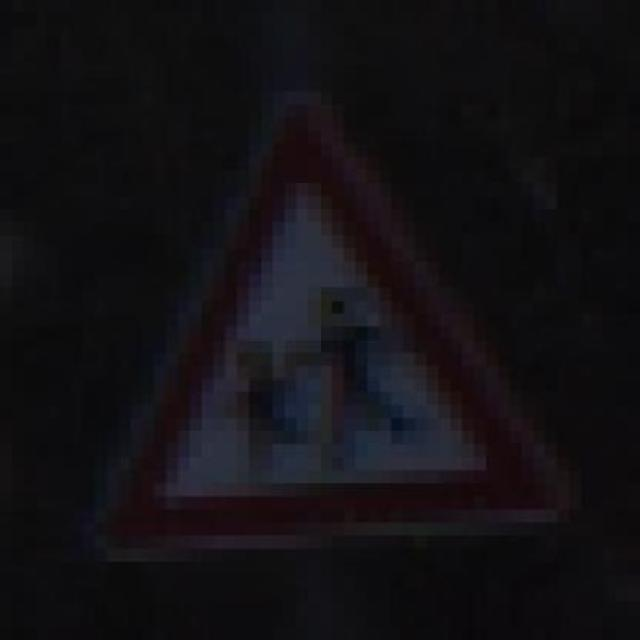Beware of children: (70, 52, 582, 562)
